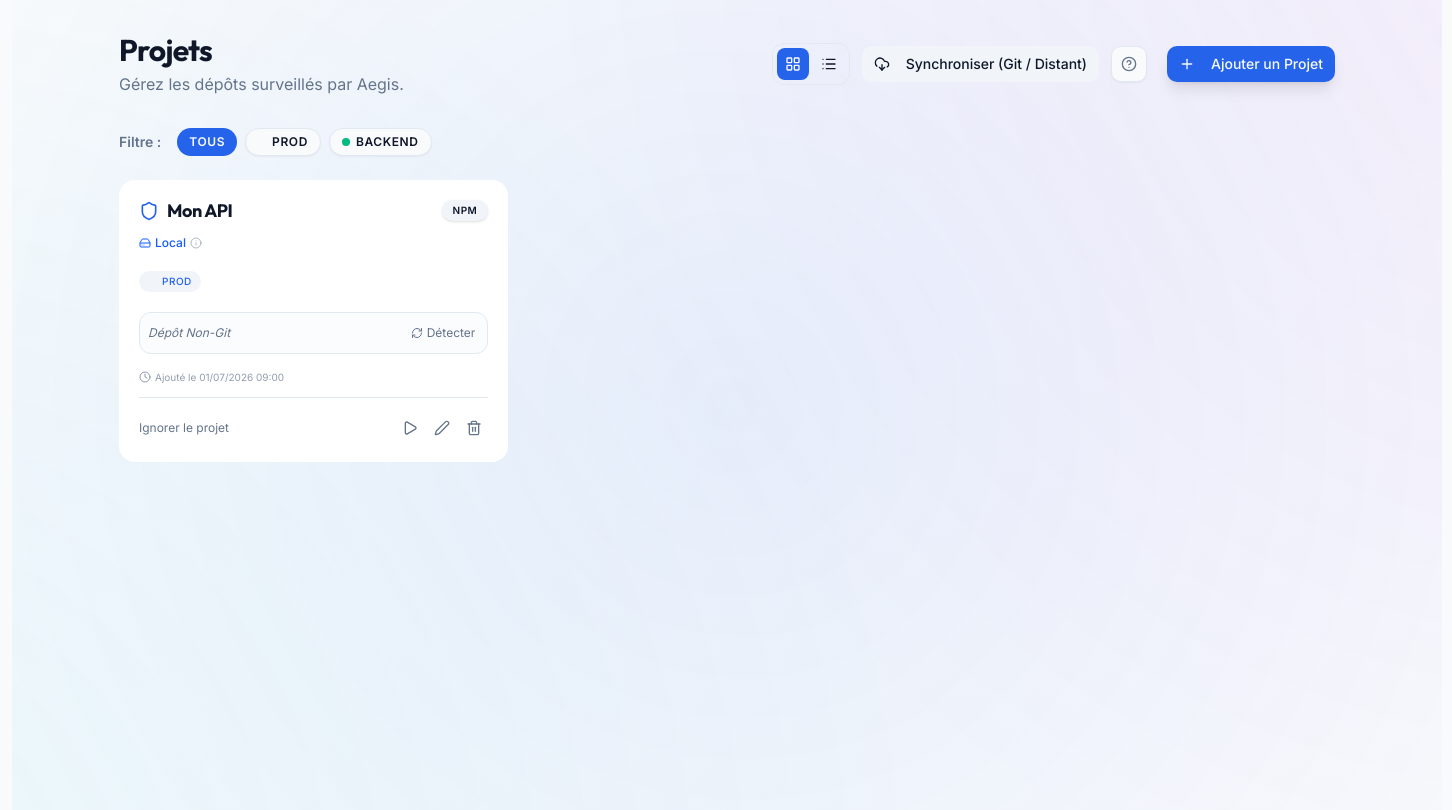
Scenario: Projects › un filtre sans résultat n'explique pas le vide
The width and height of the screenshot is (1452, 810).
expect the heading "Mon API" is shown: met, box top-left (167, 200), bottom-right (232, 222)
Click the button "backend" at (380, 142), box top-left (329, 128), bottom-right (432, 156)
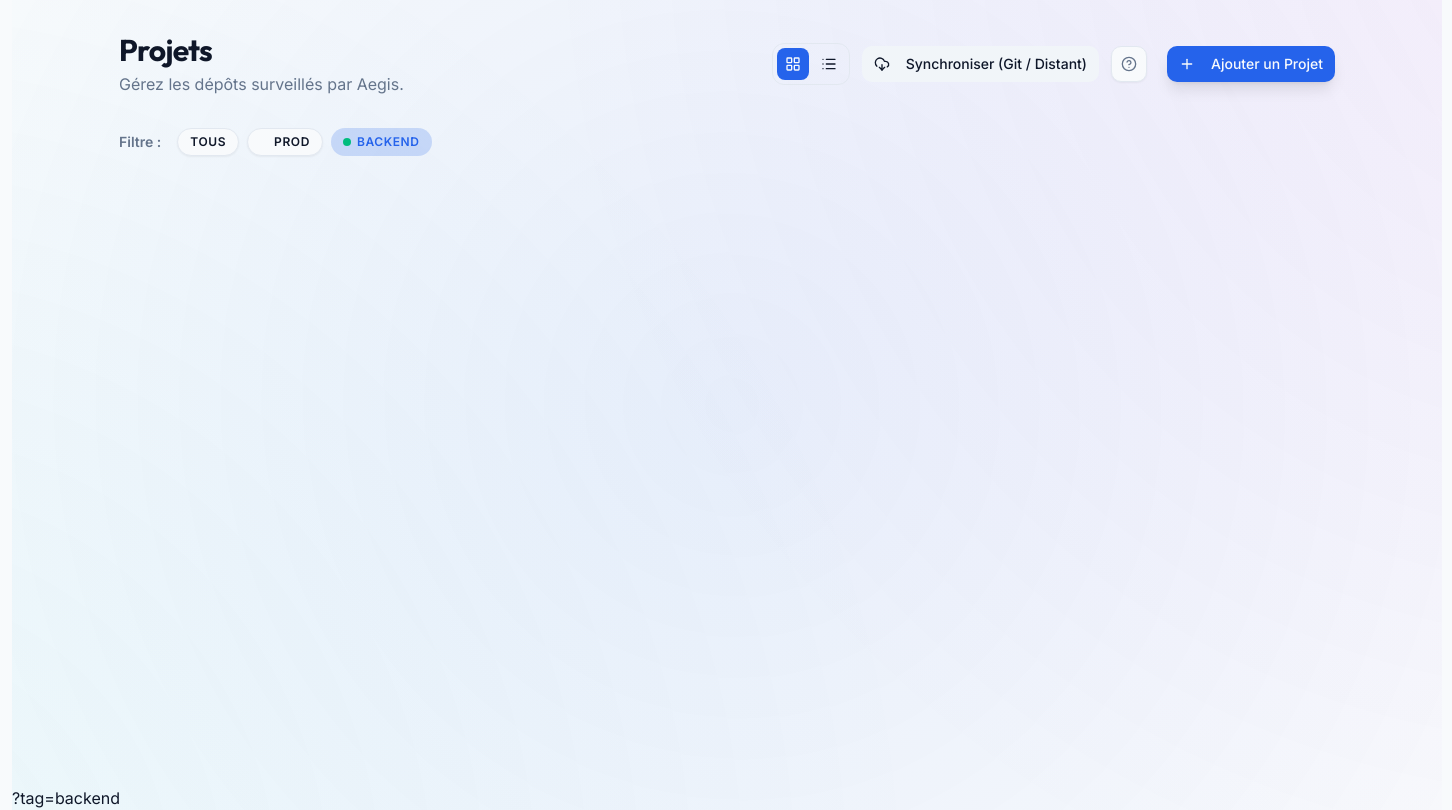
expect no buttons "Mon API" are shown: met
